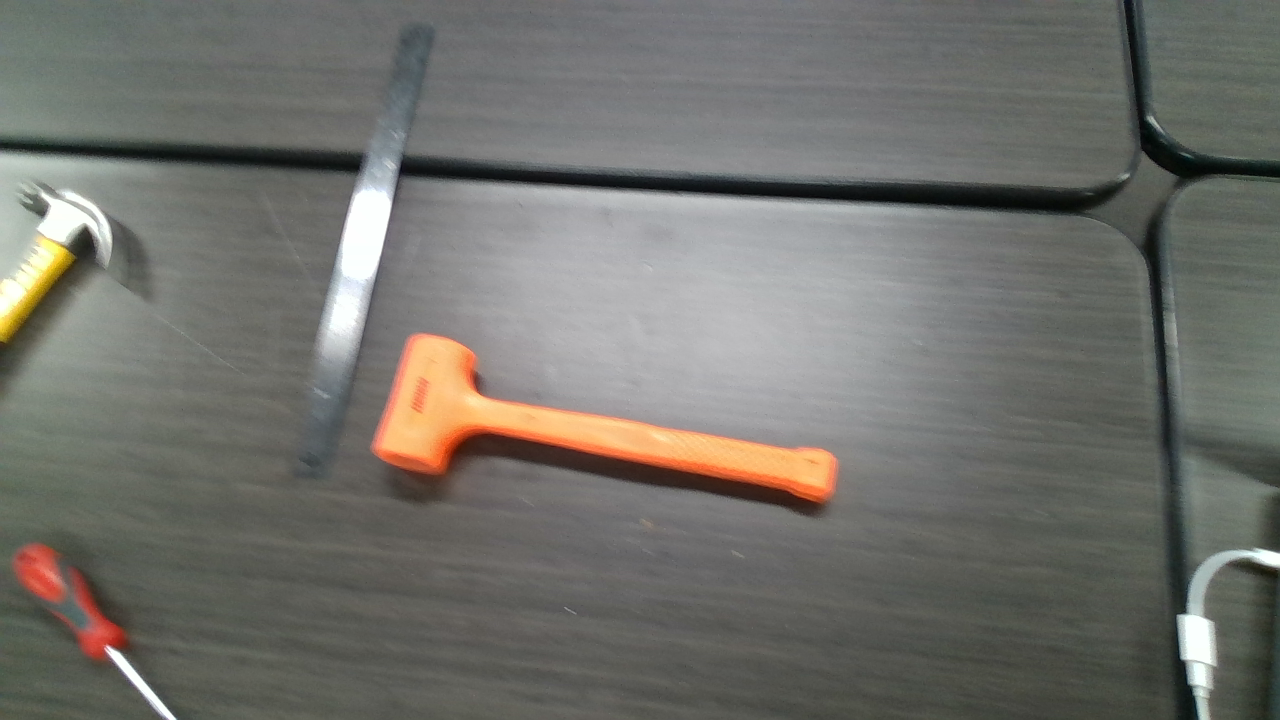Orange Hammer: (375, 332, 836, 506)
